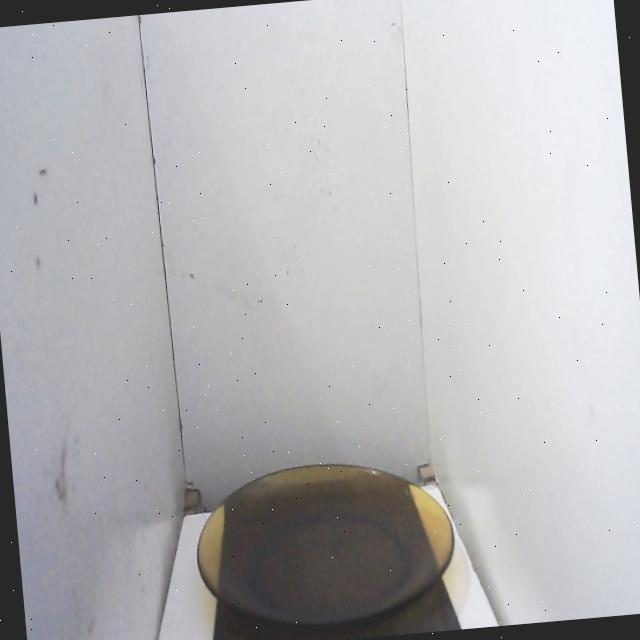vidro: (181, 436, 470, 640)
